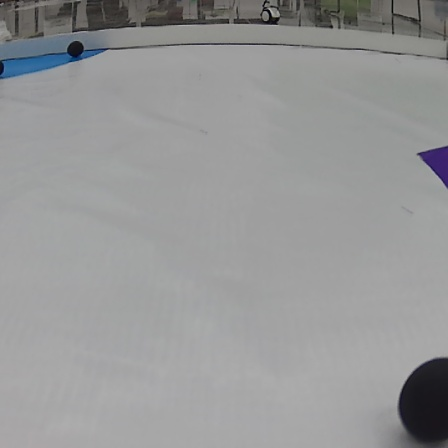black: (387, 358, 448, 445), (66, 40, 86, 59)
blue_base: (0, 46, 118, 91)
